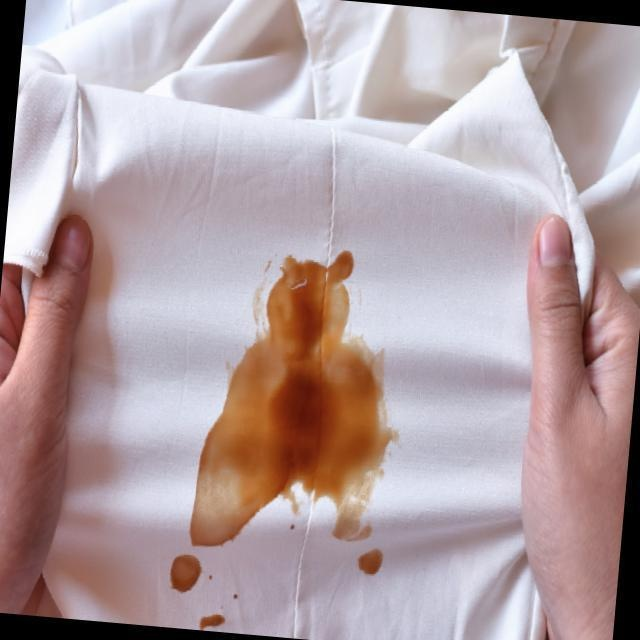coffee: (225, 239, 384, 538), (165, 554, 203, 595), (356, 551, 386, 579)
